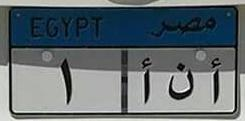1: (56, 58, 77, 105)
alif: (206, 55, 224, 106), (139, 55, 155, 105)
noon: (166, 60, 197, 101)
